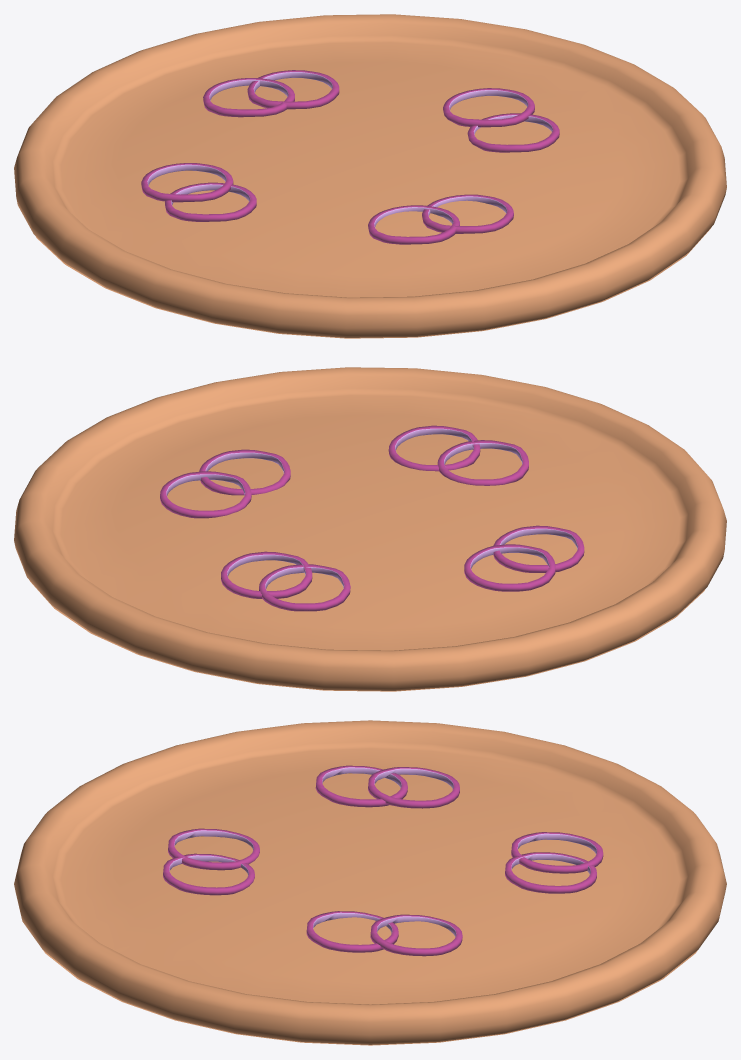
Rendered from onionbakeddough.glb.
3 renders of one model, top to bottom at view 1: azimuth 30°, elevation 25°; view 2: azimuth 150°, elevation 25°; view 3: azimuth 270°, elevation 25°, orthographic.
Visible parts, largest first — view 1: Dough.001; view 2: Dough.001; view 3: Dough.001.
Boxes of the visible parts, box(x1,y1,x2,y2) form: Dough.001: box(14, 14, 726, 338); Dough.001: box(14, 367, 726, 691); Dough.001: box(14, 720, 726, 1045).
Size of the model in its own units: 2.53 by 0.1844 by 2.53.
